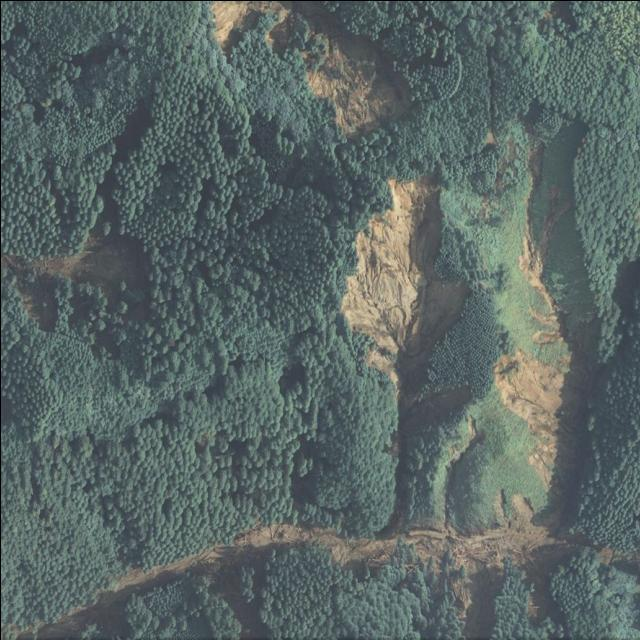landslide: (15, 102, 640, 639), (340, 173, 471, 459), (210, 0, 410, 137), (20, 214, 135, 318)
